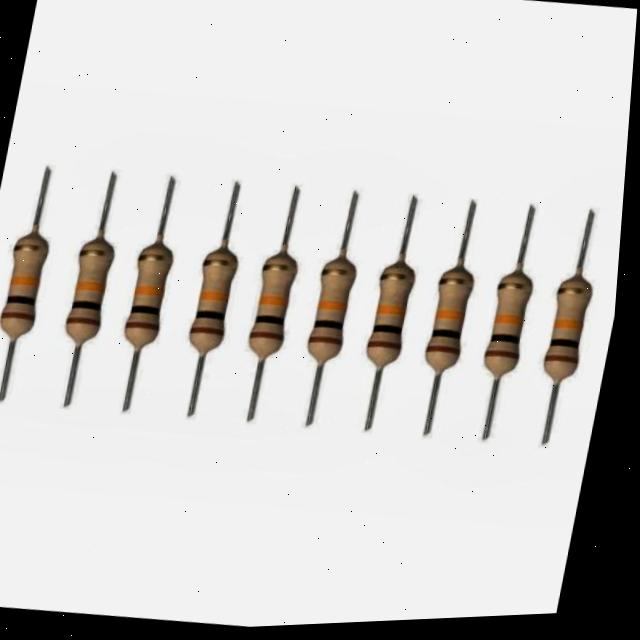Resistor: (33, 159, 148, 433), (156, 178, 272, 447), (516, 203, 627, 469), (279, 176, 386, 447), (103, 162, 200, 443), (401, 194, 502, 454), (346, 184, 439, 449), (462, 201, 555, 461), (229, 182, 317, 443), (0, 155, 75, 425)
